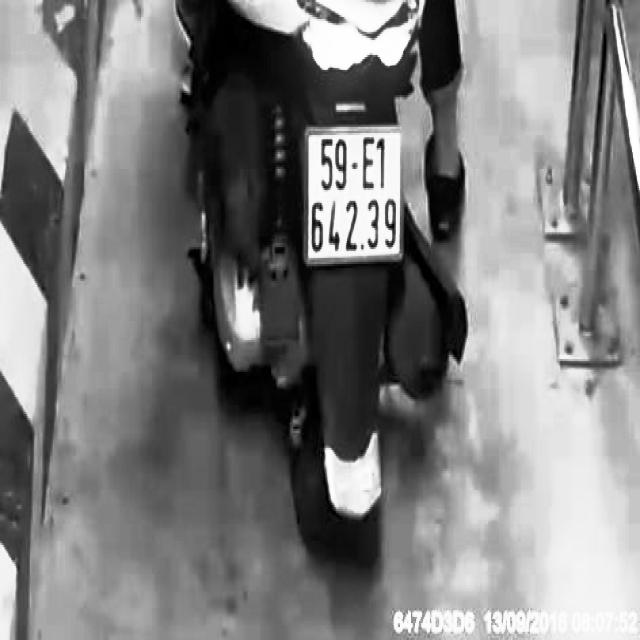license_plate: (302, 133, 406, 264)
